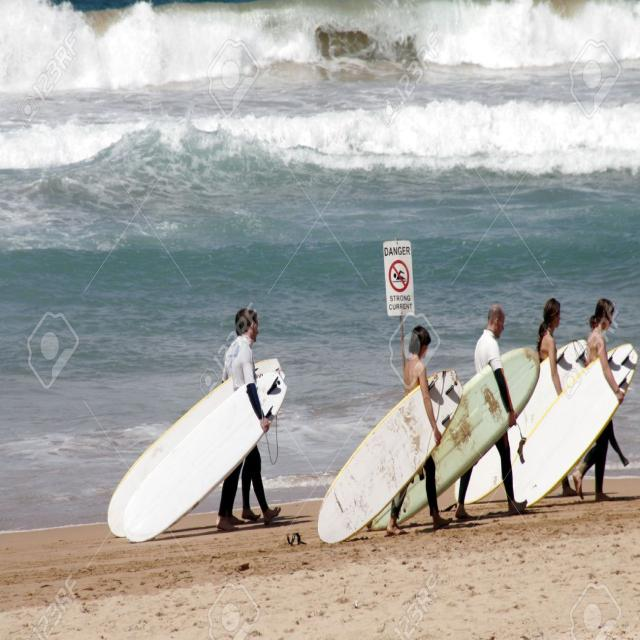body: (455, 301, 529, 521), (215, 308, 282, 528), (386, 324, 454, 536), (572, 297, 630, 503), (220, 308, 262, 526), (535, 296, 580, 498)
